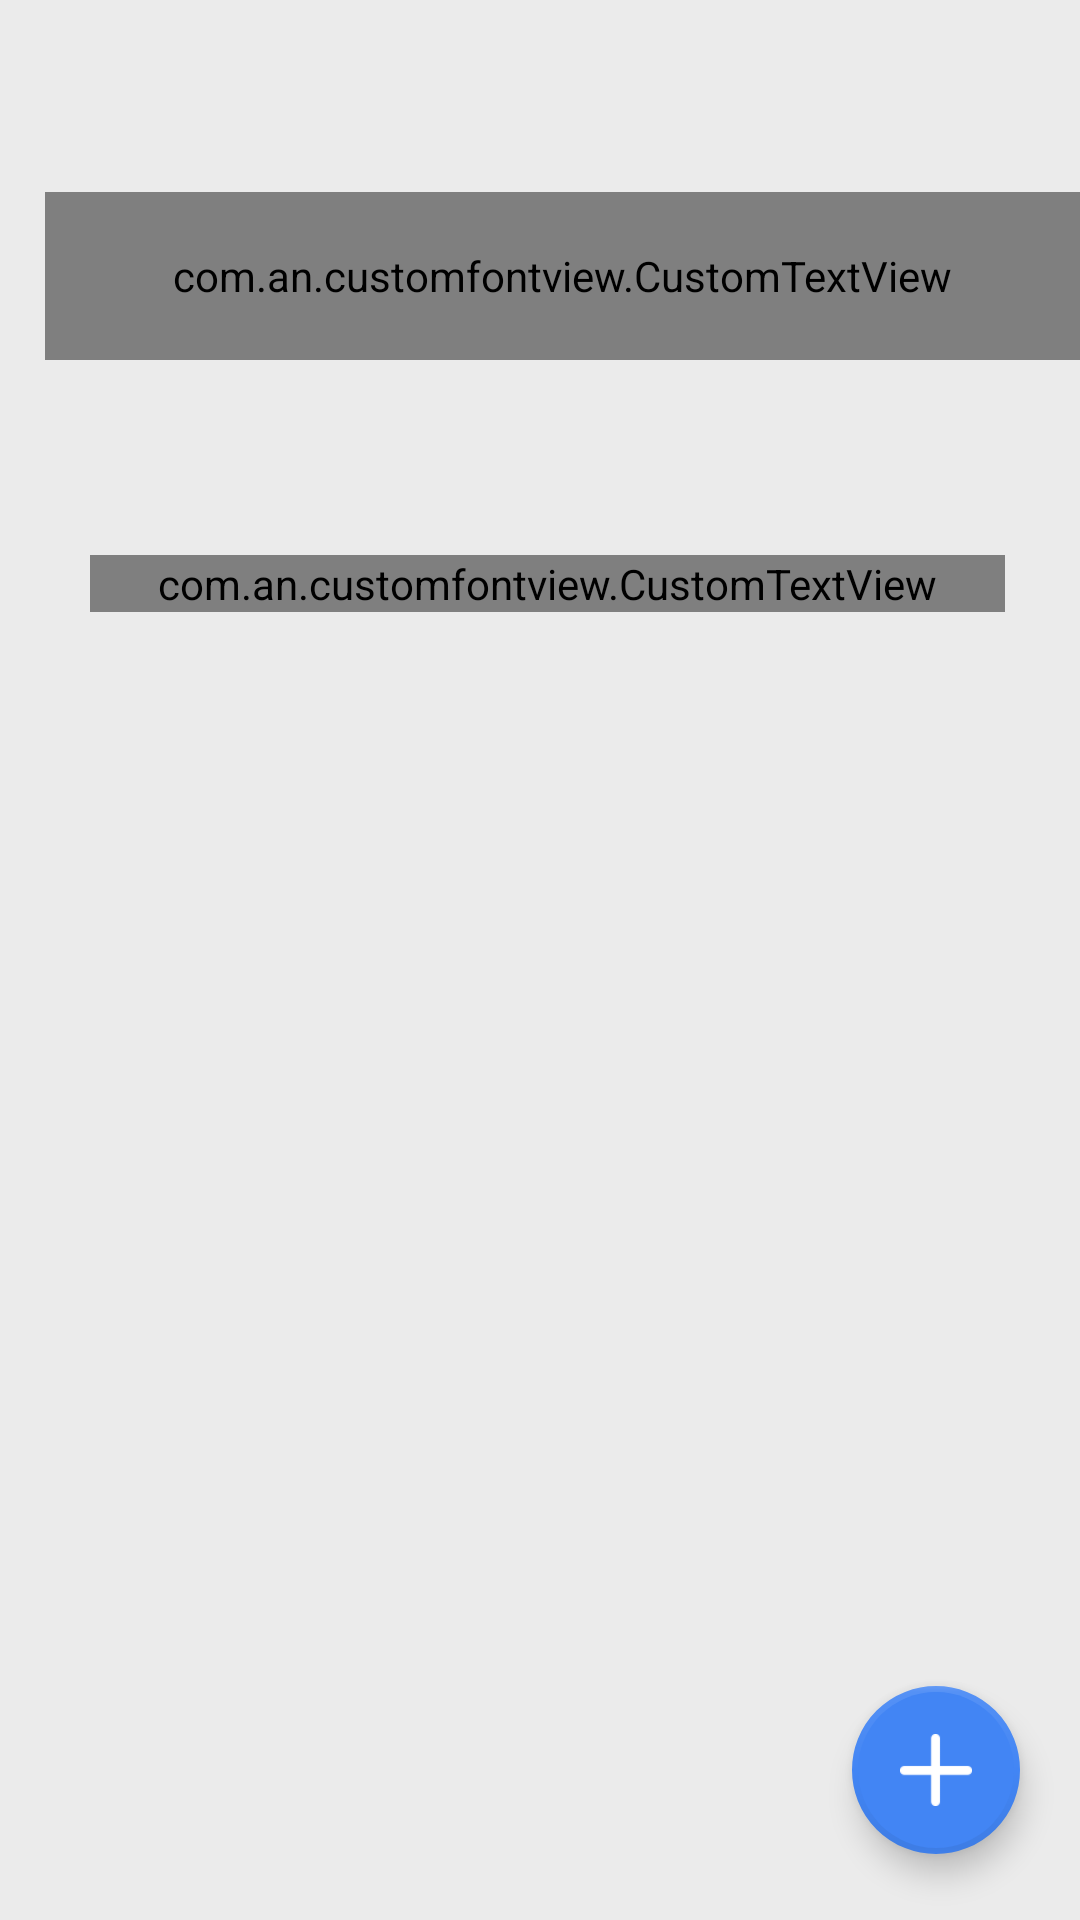

Named icons in this screenshot (1080x1920) and their centers, (x=x, y=y):
add: (x=936, y=1770)
